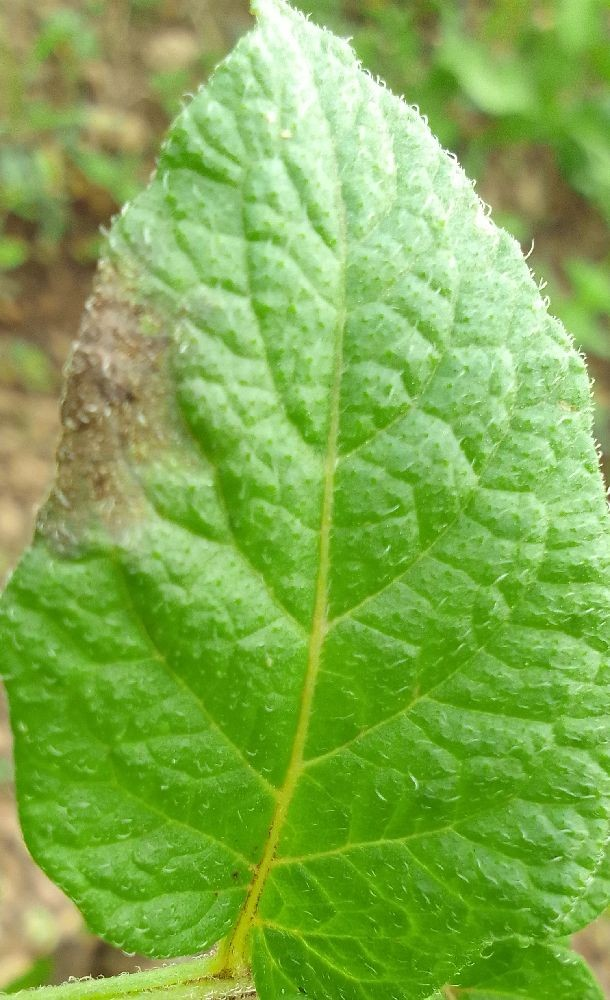late_blight: (0, 0, 269, 603), (0, 759, 184, 1000), (463, 126, 610, 304), (564, 911, 610, 1000)
